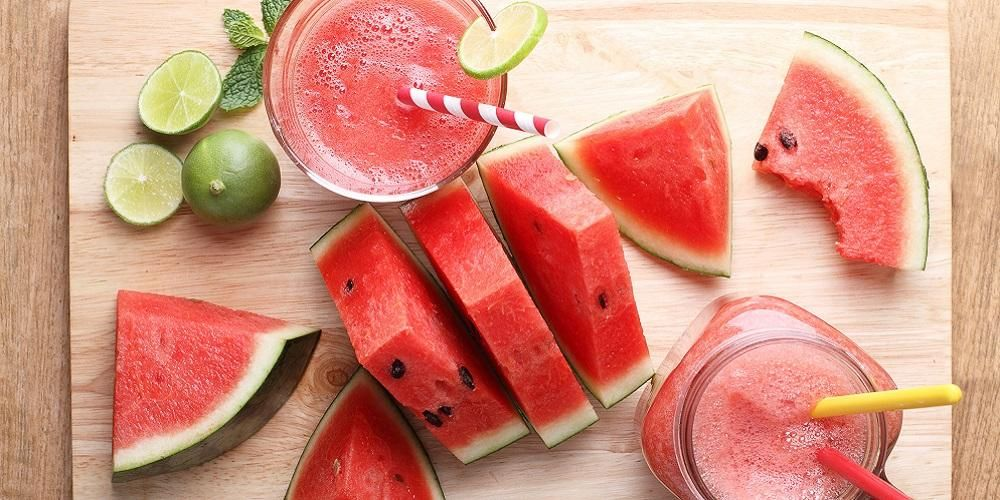Semangka: (768, 38, 936, 283), (108, 283, 306, 475), (325, 230, 490, 413), (527, 167, 660, 393), (598, 101, 734, 271), (312, 380, 411, 500)
